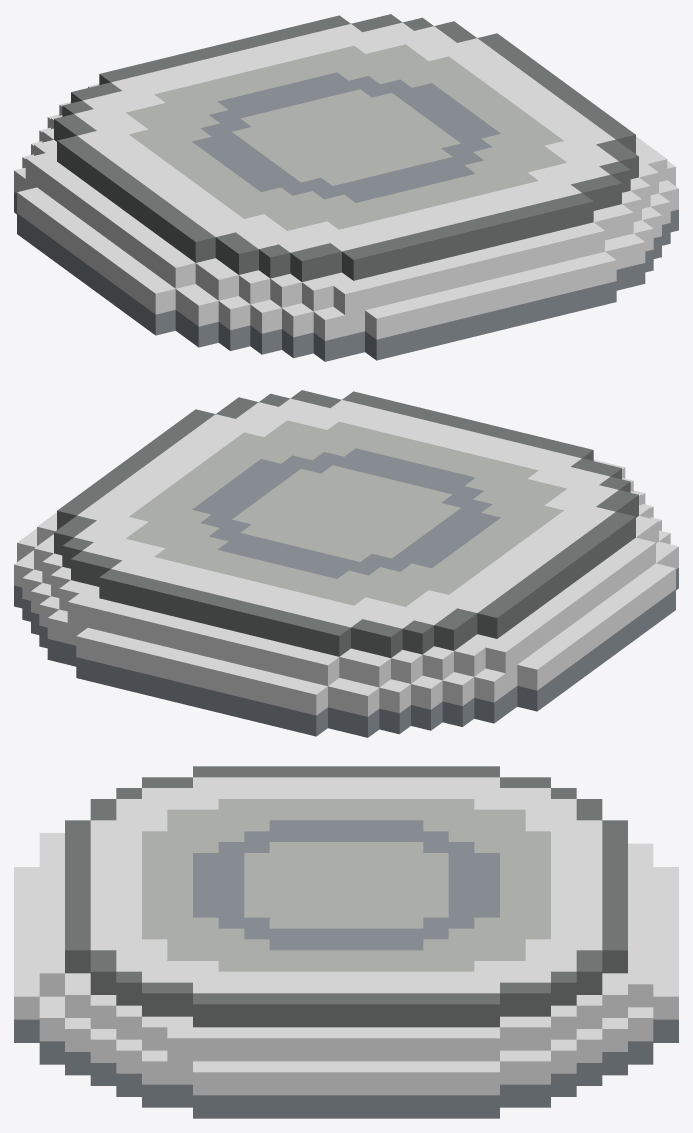
The model's file is Teleporter_Base.fbx.
3 renders of one model, top to bottom at view 1: azimuth 30°, elevation 25°; view 2: azimuth 150°, elevation 25°; view 3: azimuth 270°, elevation 25°, orthographic. The views are drawn at different scales.
Visible parts, largest first — view 1: Teleporter_Base; view 2: Teleporter_Base; view 3: Teleporter_Base.
Part boxes in pixels (left/top/right/bottom): Teleporter_Base: left=14, top=14, right=678, bottom=361; Teleporter_Base: left=14, top=390, right=678, bottom=737; Teleporter_Base: left=14, top=766, right=678, bottom=1118.
Bounding box in the file's own units: 2.6 × 0.4 × 2.6.
Materials: 1 (1 with a texture image).
